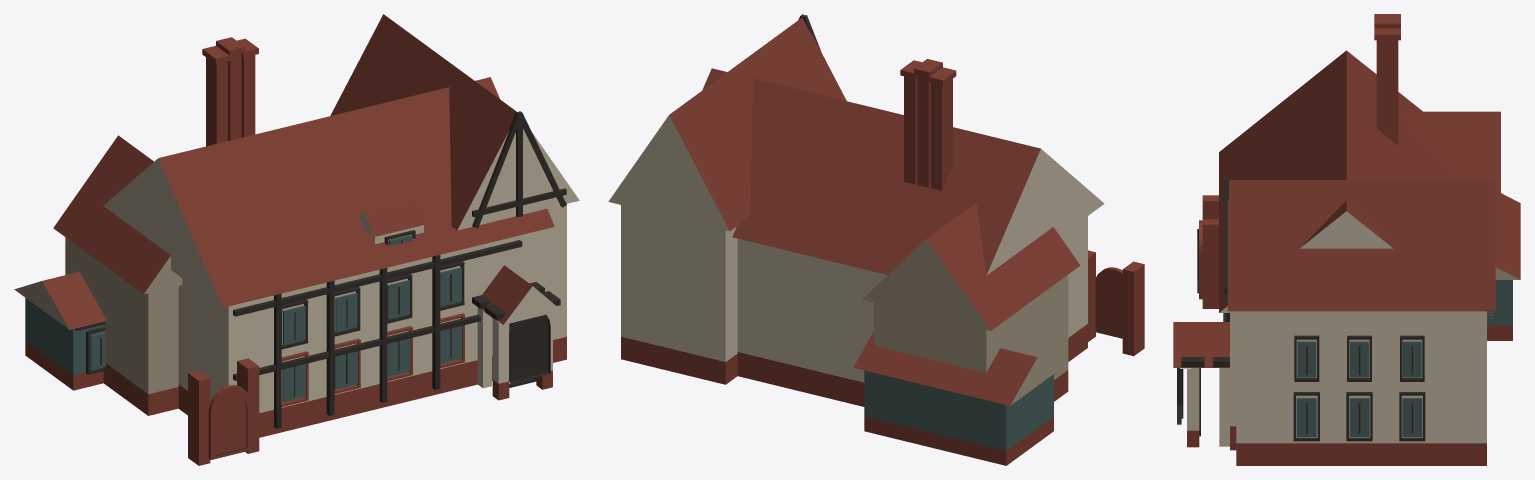
The model's file is test_hudec-memorial-master-iteration0.glb.
3 views of the same model, side by side, from view 1: azimuth 30°, elevation 25°; view 2: azimuth 150°, elevation 25°; view 3: azimuth 270°, elevation 25° (orthographic).
Parts seen in each view (by area): view 1: hudec-memorial-master; view 2: hudec-memorial-master; view 3: hudec-memorial-master.
Part boxes in pixels (box(x1,y1,x2,y2)): hudec-memorial-master: box(14, 14, 579, 465); hudec-memorial-master: box(608, 14, 1144, 465); hudec-memorial-master: box(1173, 14, 1520, 465).
Bounding box in the file's own units: 11.08 × 8.18 × 8.03.
